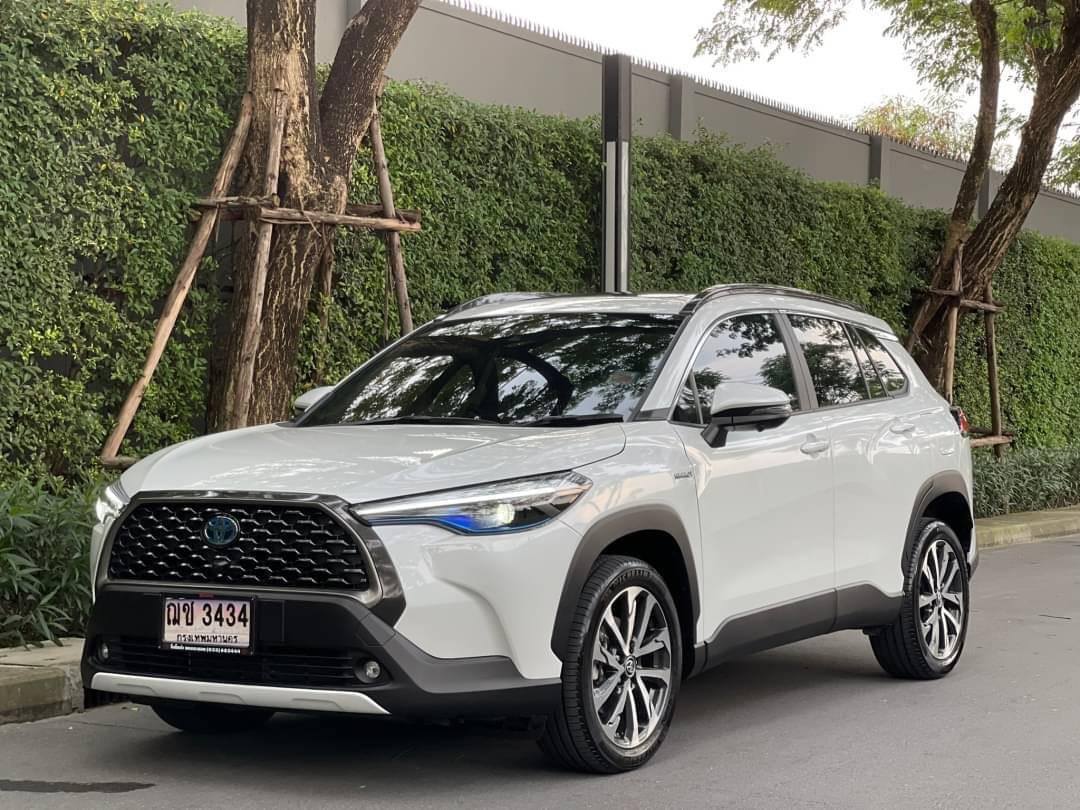license-plate: (159, 591, 257, 654)
